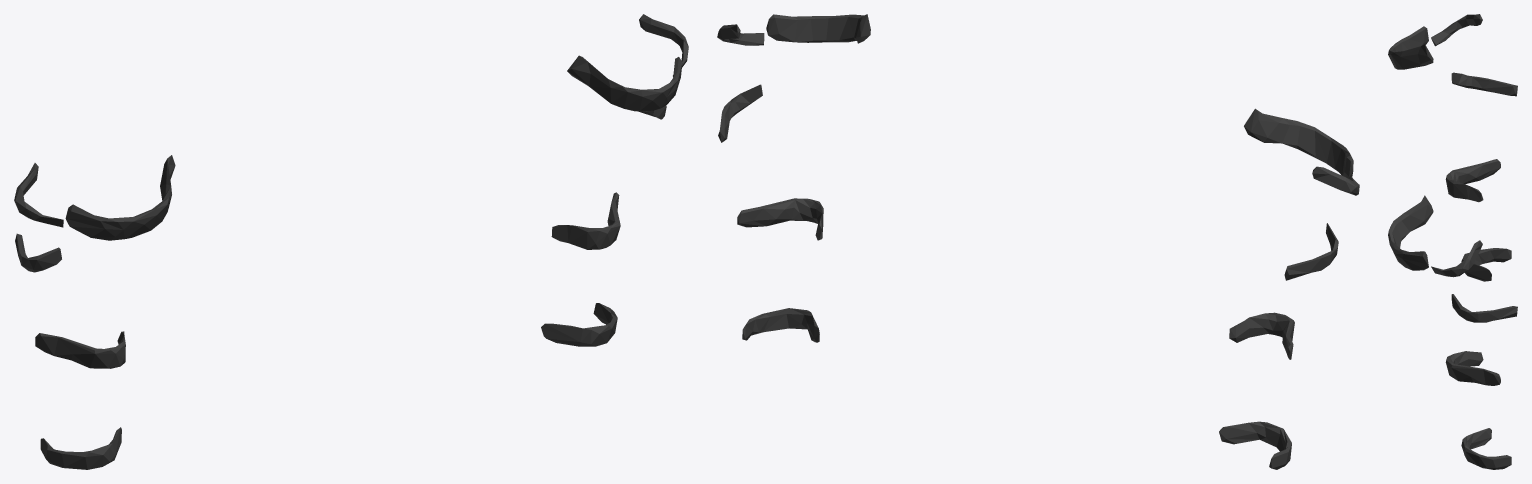
File: lig_extensor_retinaculum_HL.glb
The picture shows the model from 3 angles, left to right: view 1: azimuth 30°, elevation 25°; view 2: azimuth 150°, elevation 25°; view 3: azimuth 270°, elevation 25°; orthographic projection. The views are drawn at different scales.
Visible parts, largest first — view 1: lig_extensor_retinaculum_HL; view 2: lig_extensor_retinaculum_HL; view 3: lig_extensor_retinaculum_HL.
Boxes of the visible parts, <box> form: lig_extensor_retinaculum_HL: <box>14,14,688,469</box>; lig_extensor_retinaculum_HL: <box>717,14,1359,469</box>; lig_extensor_retinaculum_HL: <box>1388,14,1517,469</box>.
Size of the model in its own units: 0.00606 by 0.0028 by 0.00134.
1 material, 1 textured.
